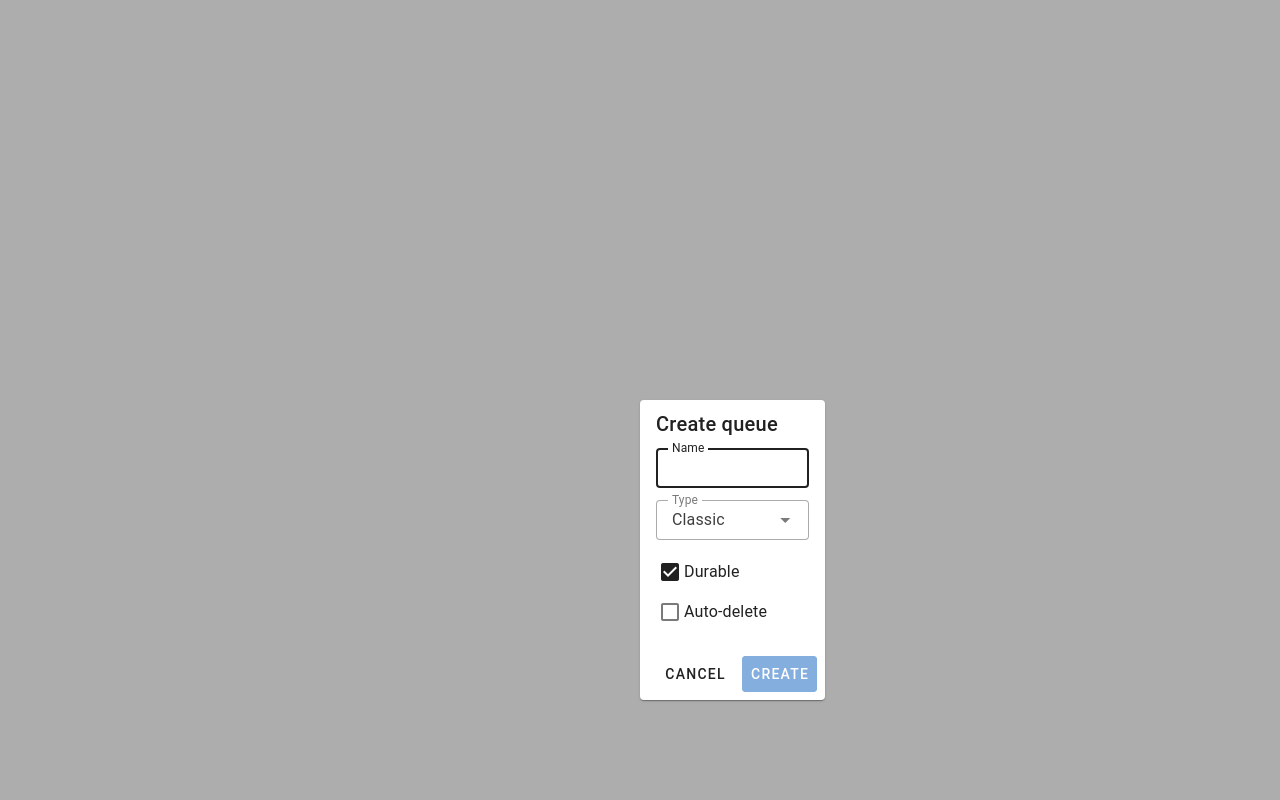
CreateQueueDialog › rejects names starting with "amq." (reserved prefix)
Type "amq.reserved" into the field labelled "Name". click: (733, 468)
box: [656, 448, 809, 488]
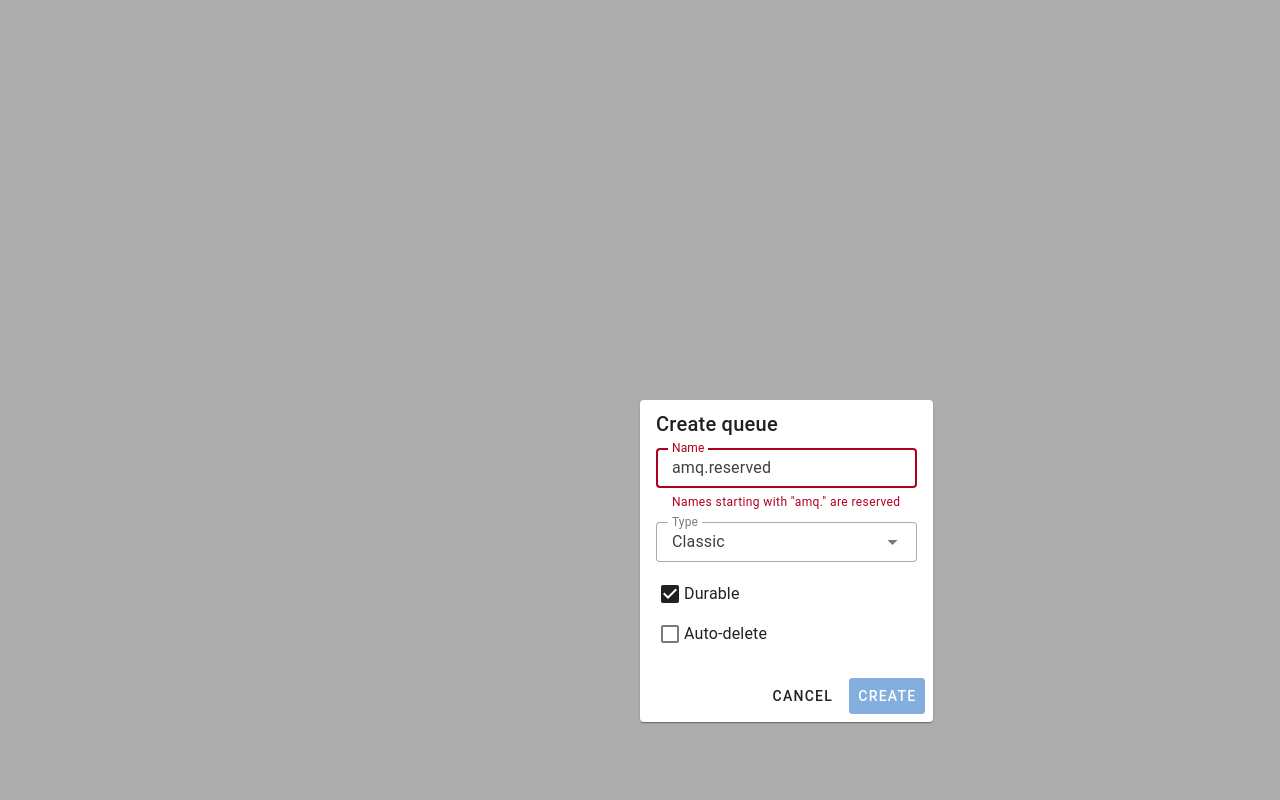
Expected: the button with test id "create-queue-submit" is disabled, [849, 678, 925, 714]
Result: the text "amq." is shown at [672, 495, 900, 509]
